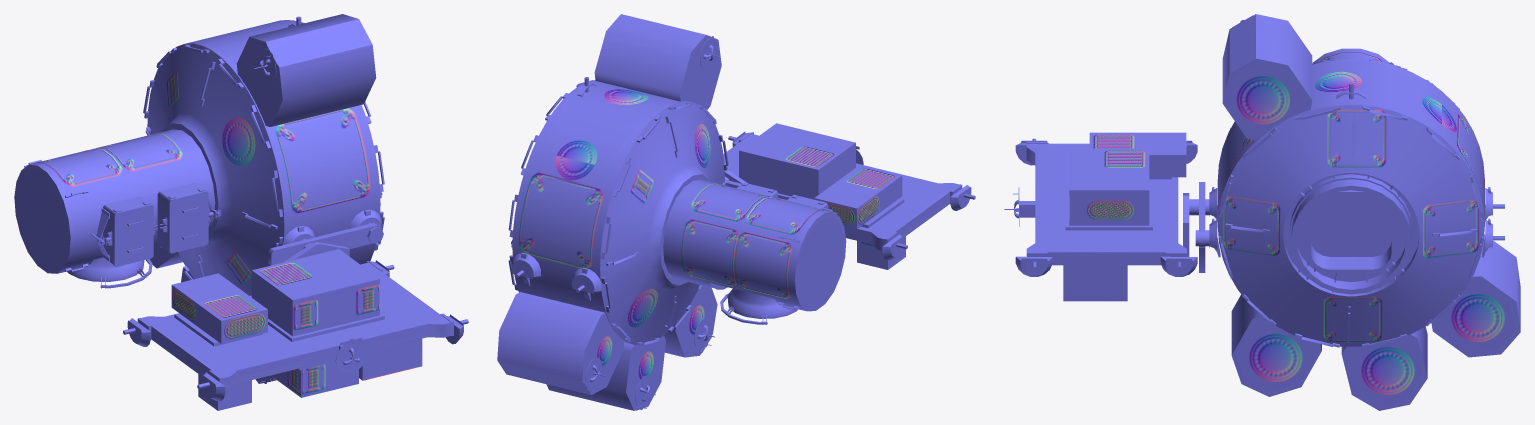
Rendered from IssModule_K.FBX.
The picture shows the model from 3 angles, left to right: view 1: azimuth 30°, elevation 25°; view 2: azimuth 150°, elevation 25°; view 3: azimuth 270°, elevation 25°; orthographic projection. The views are drawn at different scales.
Visible parts, largest first — view 1: IssModule_K; view 2: IssModule_K; view 3: IssModule_K.
Boxes of the visible parts, <box> form: IssModule_K: <box>14,14,468,410</box>; IssModule_K: <box>497,14,975,410</box>; IssModule_K: <box>1004,14,1520,410</box>.
Size of the model in its own units: 319 by 360 by 478.
